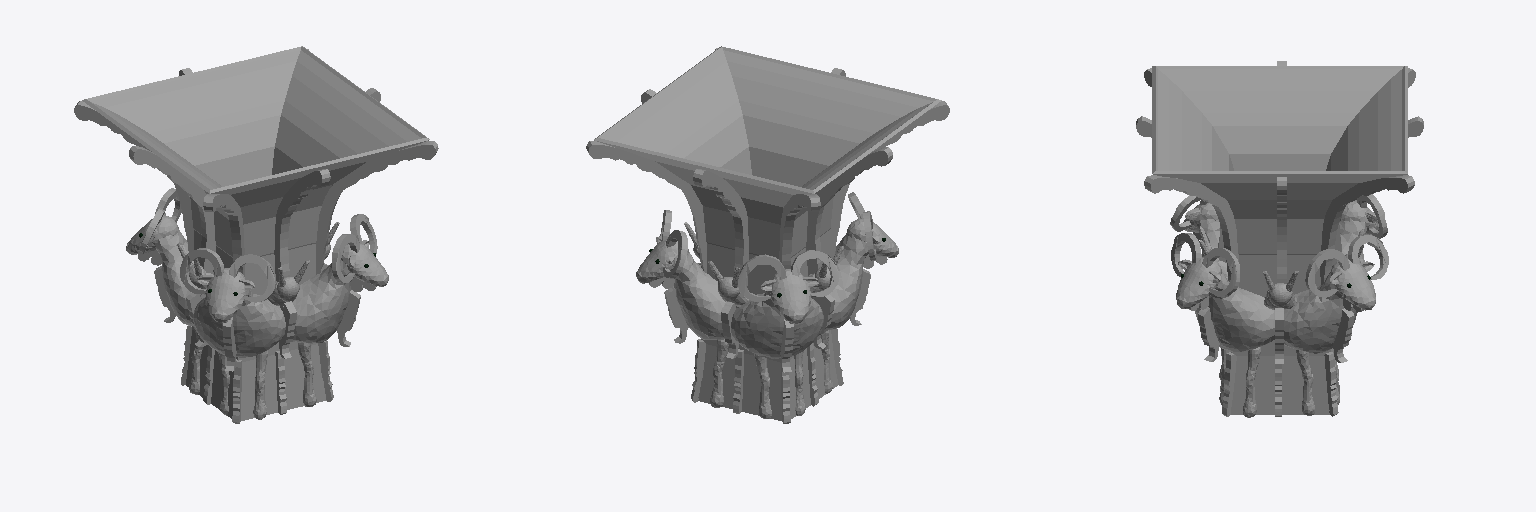
File: sheep_vase2.obj
The picture shows the model from 3 angles: view 1: azimuth 30°, elevation 25°; view 2: azimuth 150°, elevation 25°; view 3: azimuth 270°, elevation 25°; orthographic projection.
Parts seen in each view (by area): view 1: vase_body_Plane, sheep_body.003_model_[number redacted].003, sheep_body.001_model_[number redacted].006, sheep_body.000_model_[number redacted].007, arches_top.001_model_[number redacted].010, arches_top.005_model_[number redacted].013, arches_top.006_model_[number redacted].014, arches_top.000_model_[number redacted].011, arches_top.004_model_[number redacted].005, horn.006_model_[number redacted].007, horn.007_model_[number redacted].008, leg.007_model_[number redacted].008 (+5 smaller); view 2: vase_body_Plane, sheep_body.000_model_[number redacted].007, sheep_body.004_model_[number redacted].004, sheep_body.003_model_[number redacted].003, arches_top.008_model_[number redacted].002, arches_top.005_model_[number redacted].013, arches_top.003_model_[number redacted].012, arches_top.004_model_[number redacted].005, arches_top.000_model_[number redacted].011, horn.000_model_[number redacted].014, horn.001_model_[number redacted].015, leg.008_model_[number redacted].001 (+4 smaller); view 3: vase_body_Plane, sheep_body.001_model_[number redacted].006, sheep_body.004_model_[number redacted].004, arches_top.008_model_[number redacted].002, arches_top.001_model_[number redacted].010, sheep_body.000_model_[number redacted].007, arches_top.002_model_[number redacted].009, sheep_body.003_model_[number redacted].003, horn.008_model_[number redacted].001, horn.011_model_[number redacted].013, horn.009_model_[number redacted].009, leg.003_model_[number redacted].013 (+6 smaller).
Part boxes in pixels (left/top/right/bottom): vase_body_Plane: left=82, top=46, right=429, bottom=420; sheep_body.003_model_[number redacted].003: left=193, top=268, right=285, bottom=371; sheep_body.001_model_[number redacted].006: left=292, top=244, right=388, bottom=346; sheep_body.000_model_[number redacted].007: left=126, top=215, right=193, bottom=325; arches_top.001_model_[number redacted].010: left=316, top=141, right=438, bottom=274; arches_top.005_model_[number redacted].013: left=129, top=146, right=215, bottom=298; arches_top.006_model_[number redacted].014: left=274, top=169, right=330, bottom=310; arches_top.000_model_[number redacted].011: left=74, top=101, right=193, bottom=252; arches_top.004_model_[number redacted].005: left=203, top=194, right=244, bottom=276; horn.006_model_[number redacted].007: left=180, top=248, right=223, bottom=293; horn.007_model_[number redacted].008: left=229, top=254, right=276, bottom=302; leg.007_model_[number redacted].008: left=253, top=350, right=267, bottom=419; vase_body_Plane: left=594, top=46, right=941, bottom=420; sheep_body.000_model_[number redacted].007: left=731, top=269, right=823, bottom=372; sheep_body.004_model_[number redacted].004: left=636, top=239, right=725, bottom=343; sheep_body.003_model_[number redacted].003: left=828, top=218, right=898, bottom=329; arches_top.008_model_[number redacted].002: left=586, top=141, right=706, bottom=272; arches_top.005_model_[number redacted].013: left=806, top=147, right=892, bottom=302; arches_top.003_model_[number redacted].012: left=693, top=169, right=748, bottom=307; arches_top.004_model_[number redacted].005: left=830, top=101, right=949, bottom=257; arches_top.000_model_[number redacted].011: left=779, top=194, right=820, bottom=268; horn.000_model_[number redacted].014: left=738, top=254, right=786, bottom=301; horn.001_model_[number redacted].015: left=791, top=250, right=838, bottom=296; leg.008_model_[number redacted].001: left=710, top=339, right=728, bottom=407; vase_body_Plane: left=1152, top=66, right=1407, bottom=414; sheep_body.001_model_[number redacted].006: left=1176, top=257, right=1274, bottom=361; sheep_body.004_model_[number redacted].004: left=1284, top=258, right=1375, bottom=362; arches_top.008_model_[number redacted].002: left=1320, top=175, right=1414, bottom=284; arches_top.001_model_[number redacted].010: left=1144, top=175, right=1238, bottom=286; sheep_body.000_model_[number redacted].007: left=1339, top=201, right=1378, bottom=262; arches_top.002_model_[number redacted].009: left=1277, top=177, right=1286, bottom=283; sheep_body.003_model_[number redacted].003: left=1183, top=203, right=1219, bottom=256; horn.008_model_[number redacted].001: left=1305, top=249, right=1349, bottom=297; horn.011_model_[number redacted].013: left=1202, top=248, right=1239, bottom=296; horn.009_model_[number redacted].009: left=1348, top=235, right=1388, bottom=279; leg.003_model_[number redacted].013: left=1243, top=347, right=1260, bottom=417.
Size of the model in its own units: 8.96 by 9.5 by 9.01.